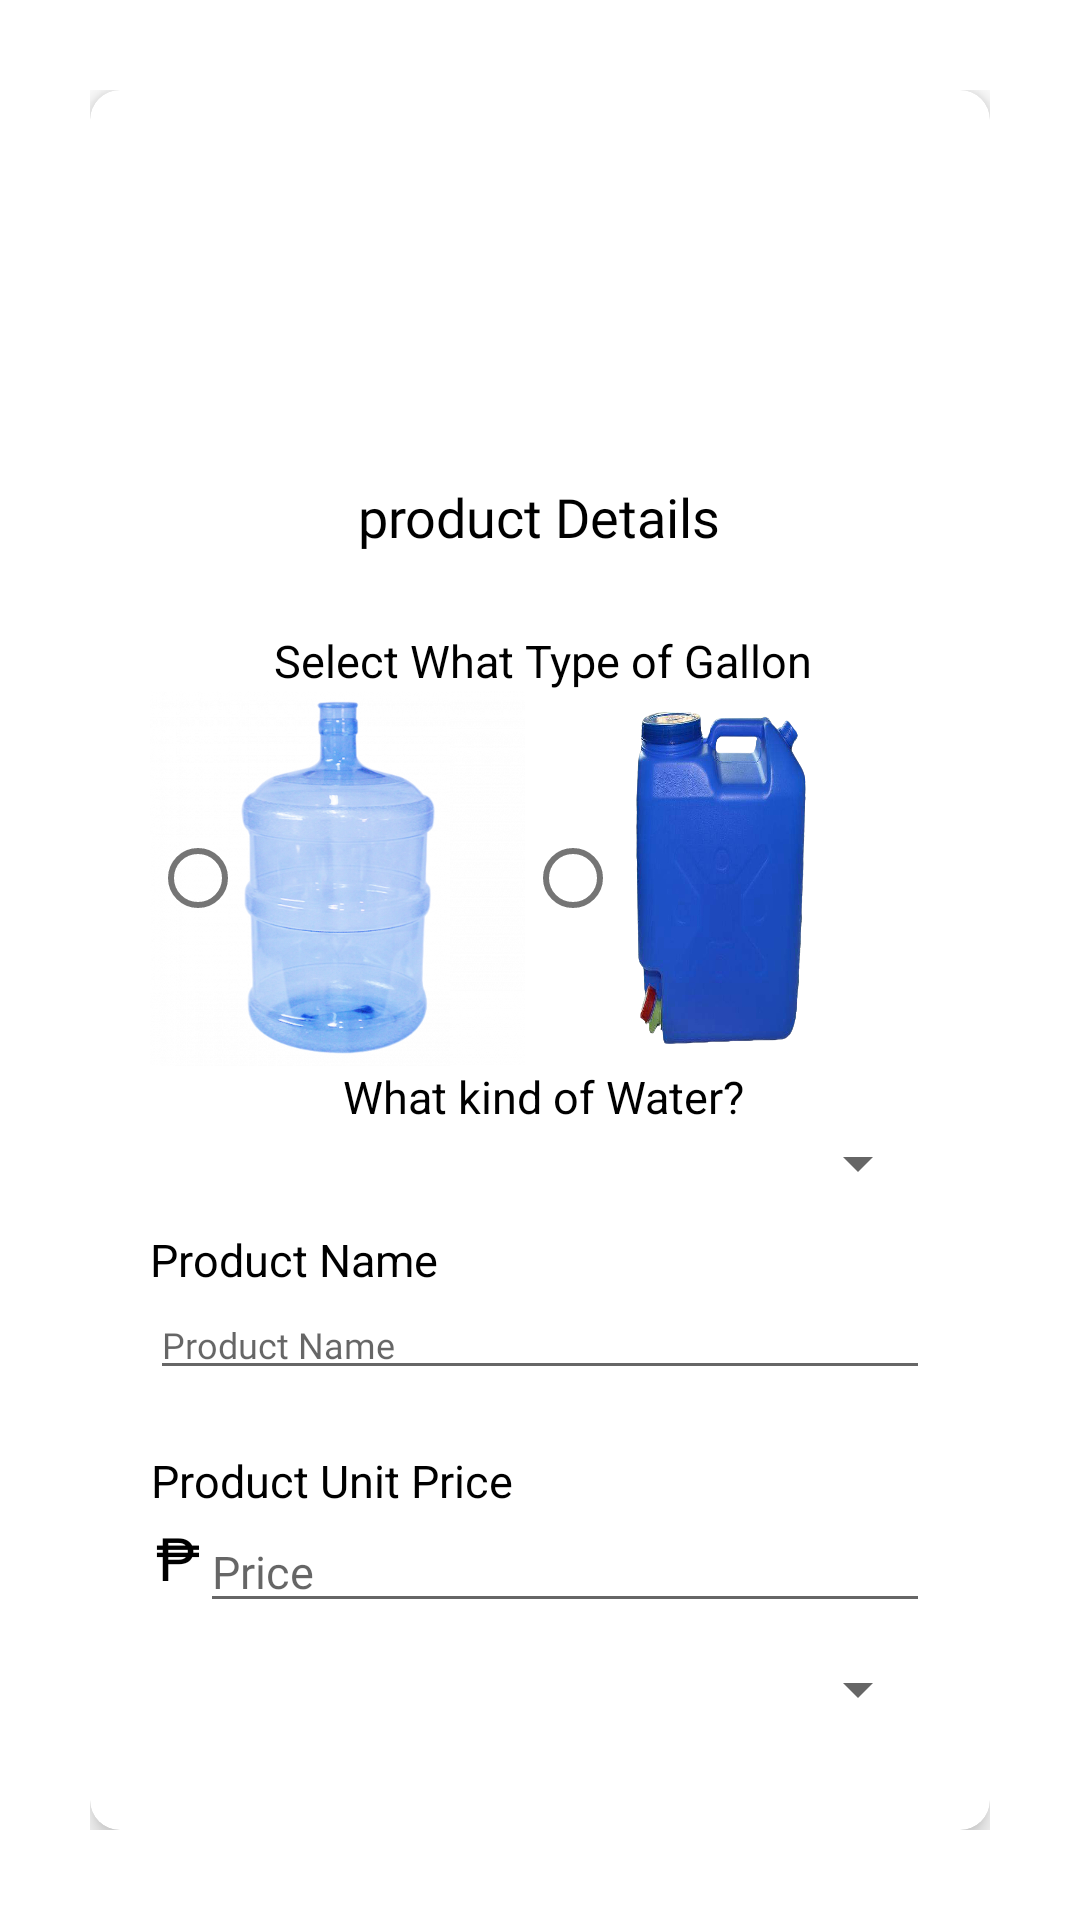

Locate icon controls on the screen. Image size 1080x1920, boxes as region(x1, y1, x2, y2).
roundgallon: region(168, 702, 434, 1053)
slimgallon: region(543, 712, 806, 1044)
